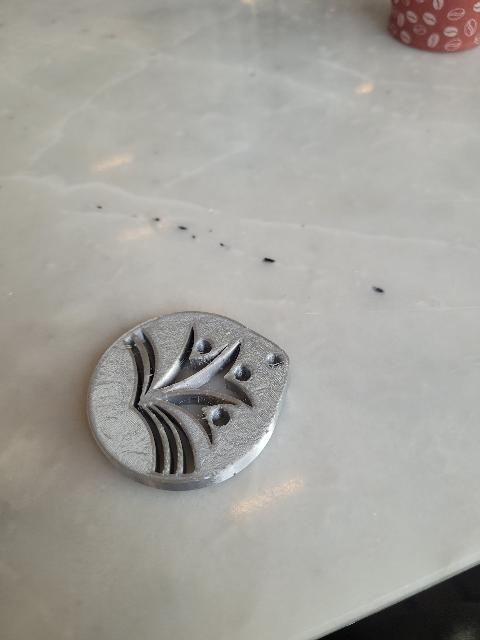Plastik: (84, 308, 293, 492)
